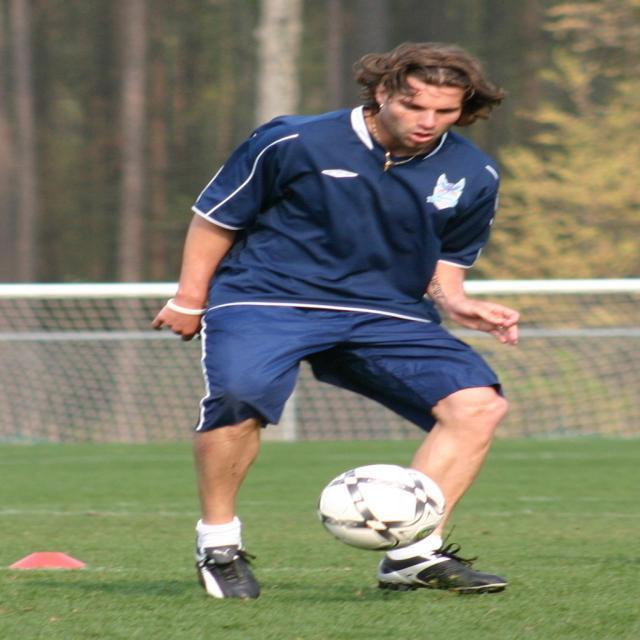football: (307, 452, 455, 554)
